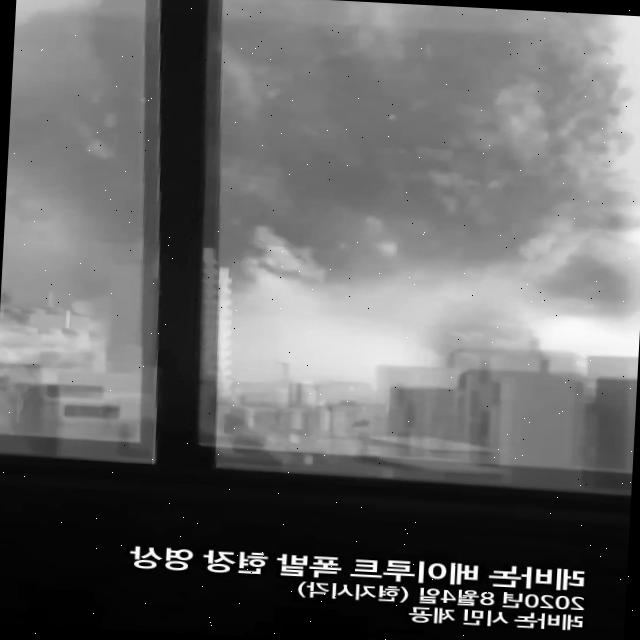explosion: (0, 0, 638, 415)
